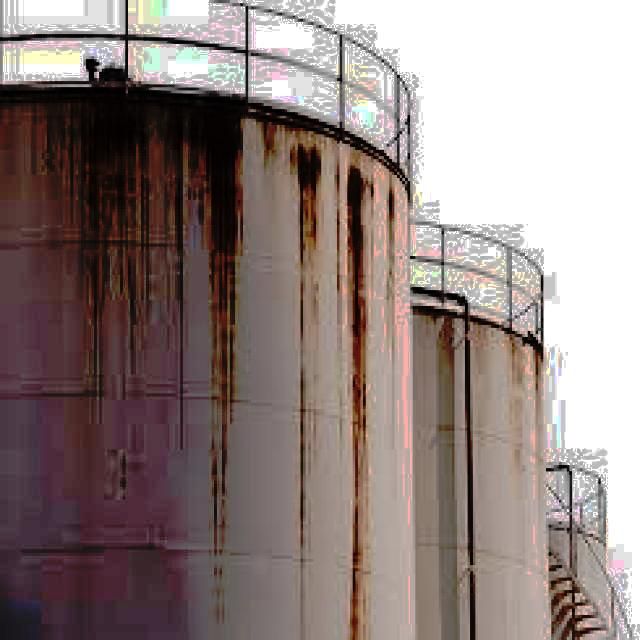Corrosion: (68, 88, 247, 495), (346, 161, 375, 640), (293, 141, 325, 552), (506, 334, 542, 417), (330, 158, 345, 346), (383, 180, 400, 279)
